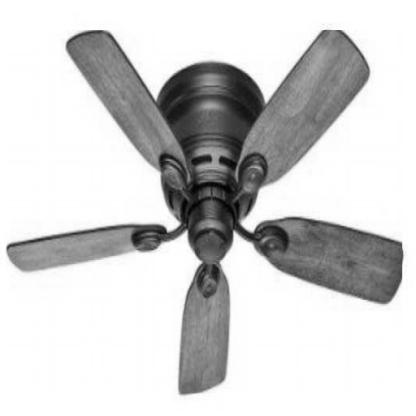ceiling-fan: (6, 30, 403, 394)
